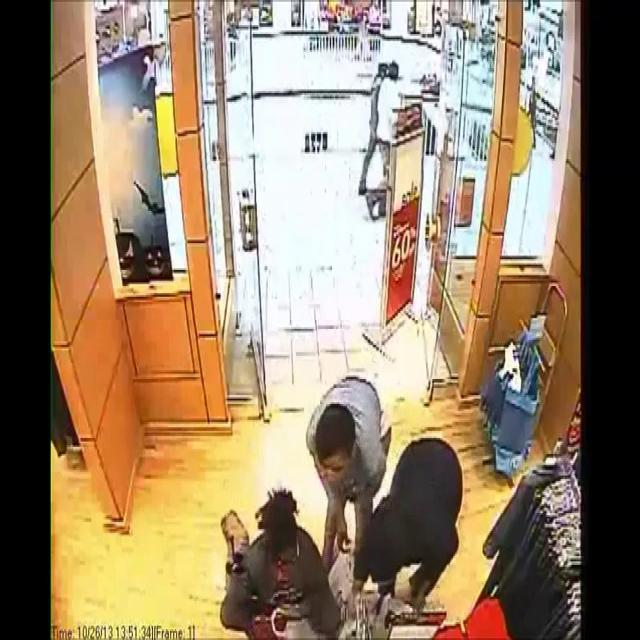normal: (309, 345, 404, 501)
shoplifting: (202, 438, 339, 640), (350, 433, 456, 640)
